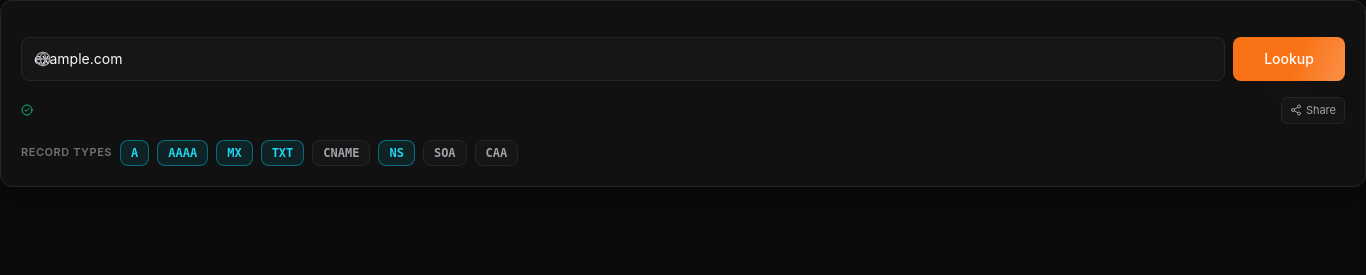
target-guard integration — DNS/Port/SSL forms › DNS lookup blocks an RFC 1918 IP with the private-network message
Type "10.0.0.1" into the field named "enter domain" at (623, 59), box left=21, top=37, right=1225, bottom=81
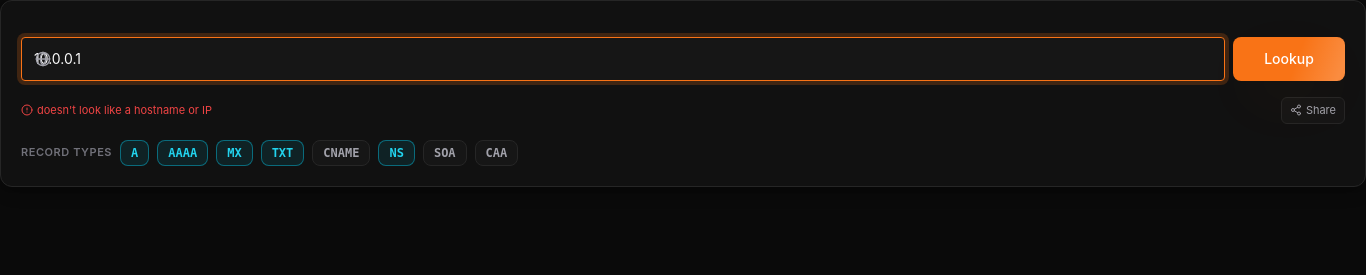
Click the button "Lookup" at (1289, 59), box left=1233, top=37, right=1345, bottom=81
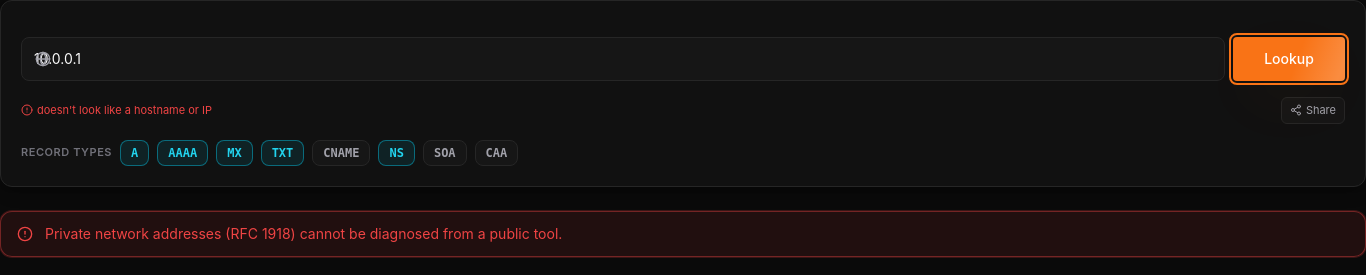
Check: the message "Private network addresses (RFC 1918) cannot be diagnosed from a public tool." is shown, box left=0, top=210, right=1365, bottom=256
